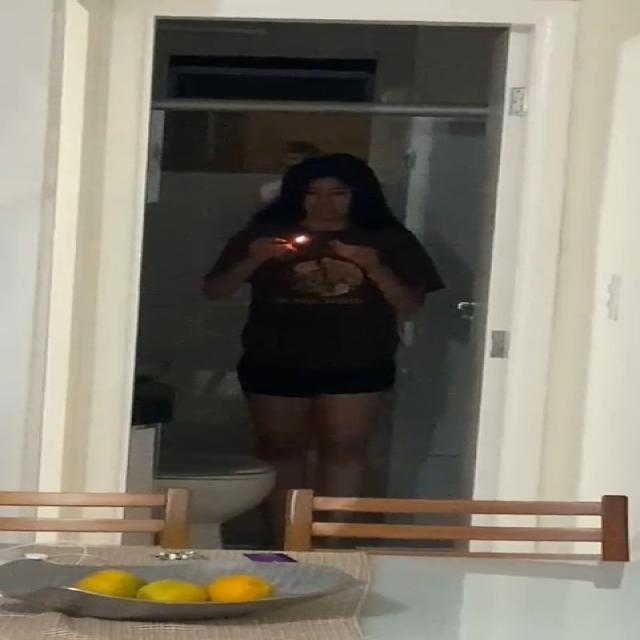fogo-ypXI: (293, 233, 308, 244)
